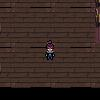Victim: (42, 38, 58, 62)
